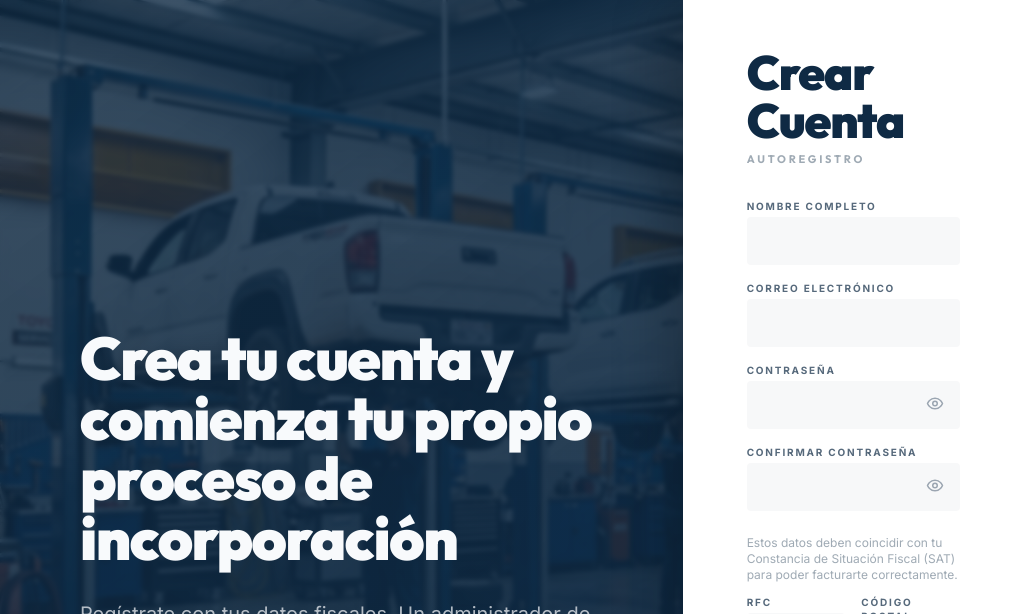
Test case: SignupPage Component (FC177 F2) › FC184 F3 — confirmación de contraseña, medidor de fuerza y toggles de visibilidad › el medidor de fuerza aparece y muestra "Débil" para una contraseña trivial (Scenario 3)
Type "password123" into the password field labelled "Contraseña".
click(853, 405); type("password123")  # box top-left (747, 381), bottom-right (960, 429)
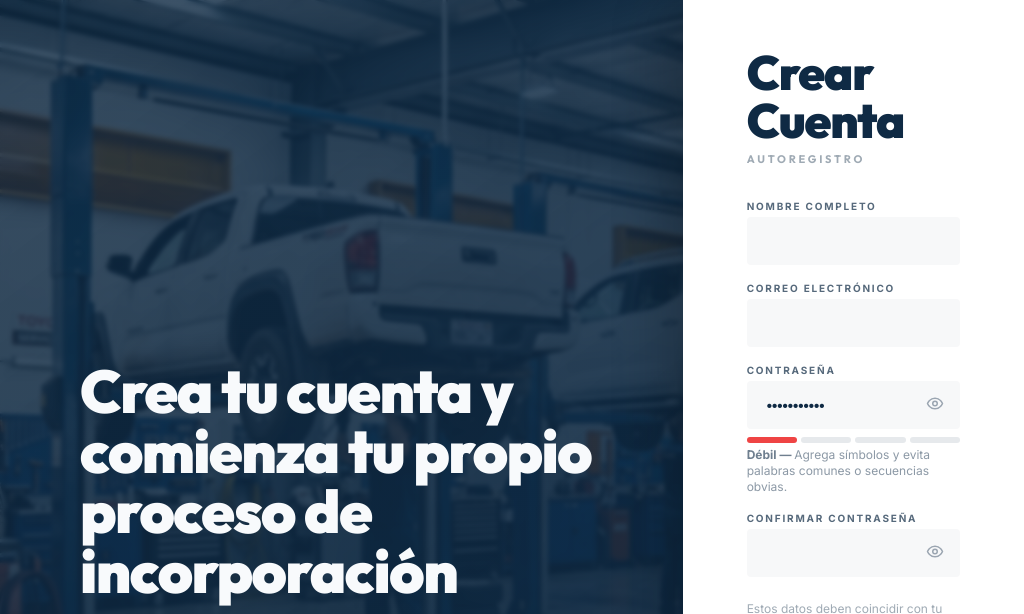
Expected: the element with test id "signup-password-strength" shows "Débil", top-left (747, 447), bottom-right (777, 462)
